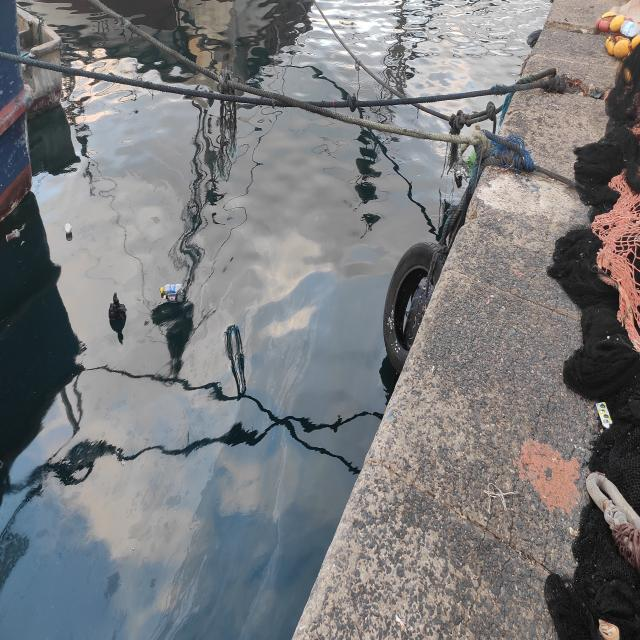Plastic bag: (107, 291, 128, 326), (3, 222, 27, 242)
Plastic bottle: (159, 282, 184, 297), (162, 292, 178, 302), (64, 222, 72, 236)
